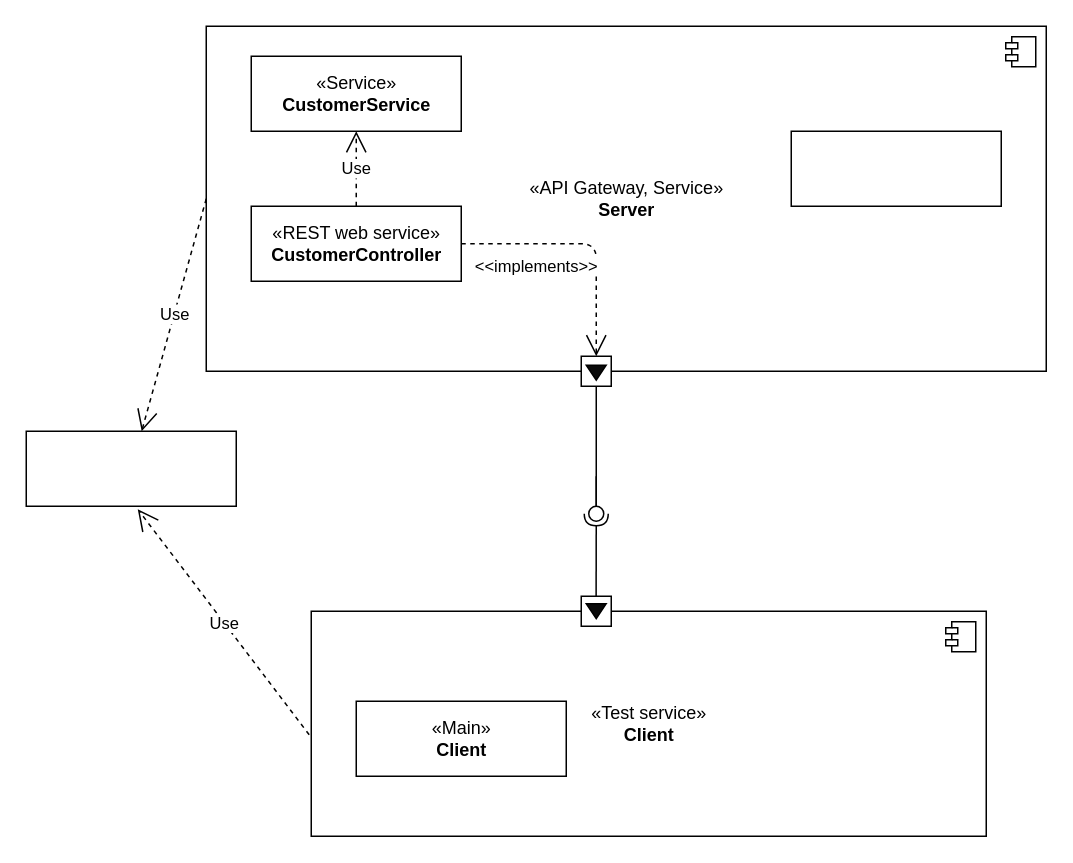
The diagram is 1073 pixels wide and 863 high, and some of its shapes have lost their labels. The shapes that lost their labels are listed below. From the top down, each one's box as (x1, y1, x2, y2) in pixels, then its label:
(790, 130, 1001, 206): «Main» Server
(25, 430, 236, 506): «DTO» CustomerDTO
